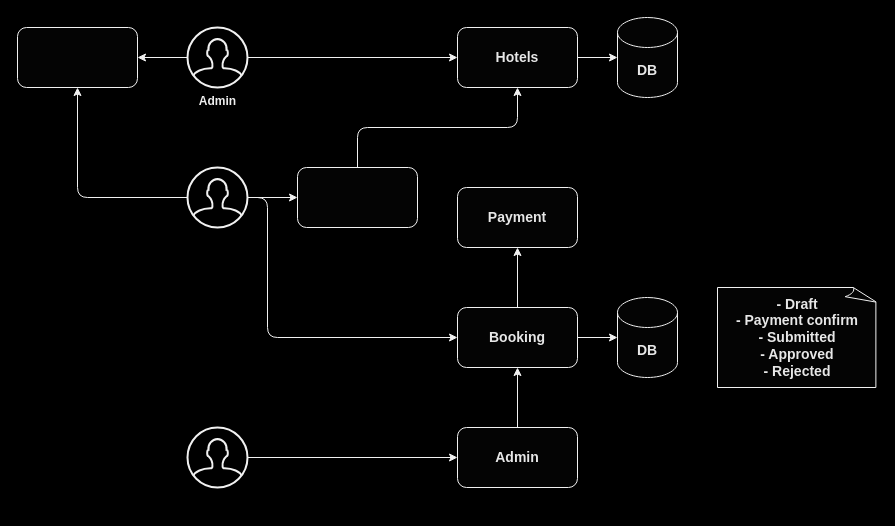
Image size: 895x526. Some labels were removed from this diagram. Each missing label, with the centre of its shape:
"Customer" belongs at point 217,197.
"Hotel Manager" belongs at point 217,457.
"Idenity Provider (IDP)" belongs at point 77,57.
"Search" belongs at point 357,197.
